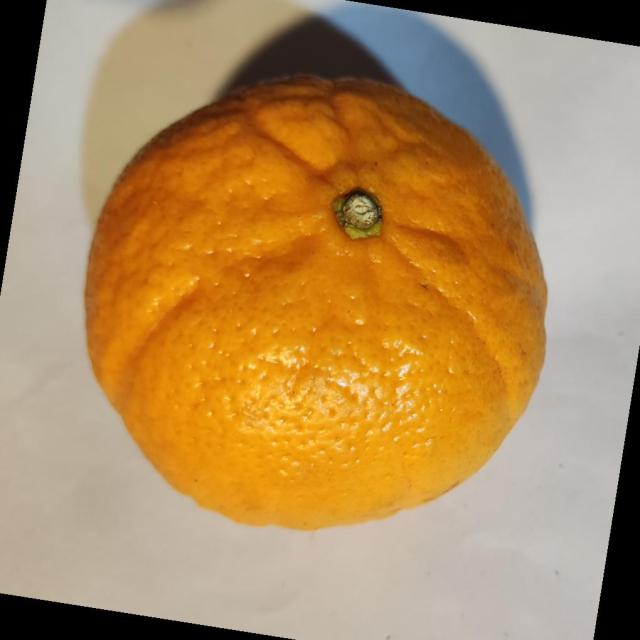fresh orange: (83, 72, 548, 532)
